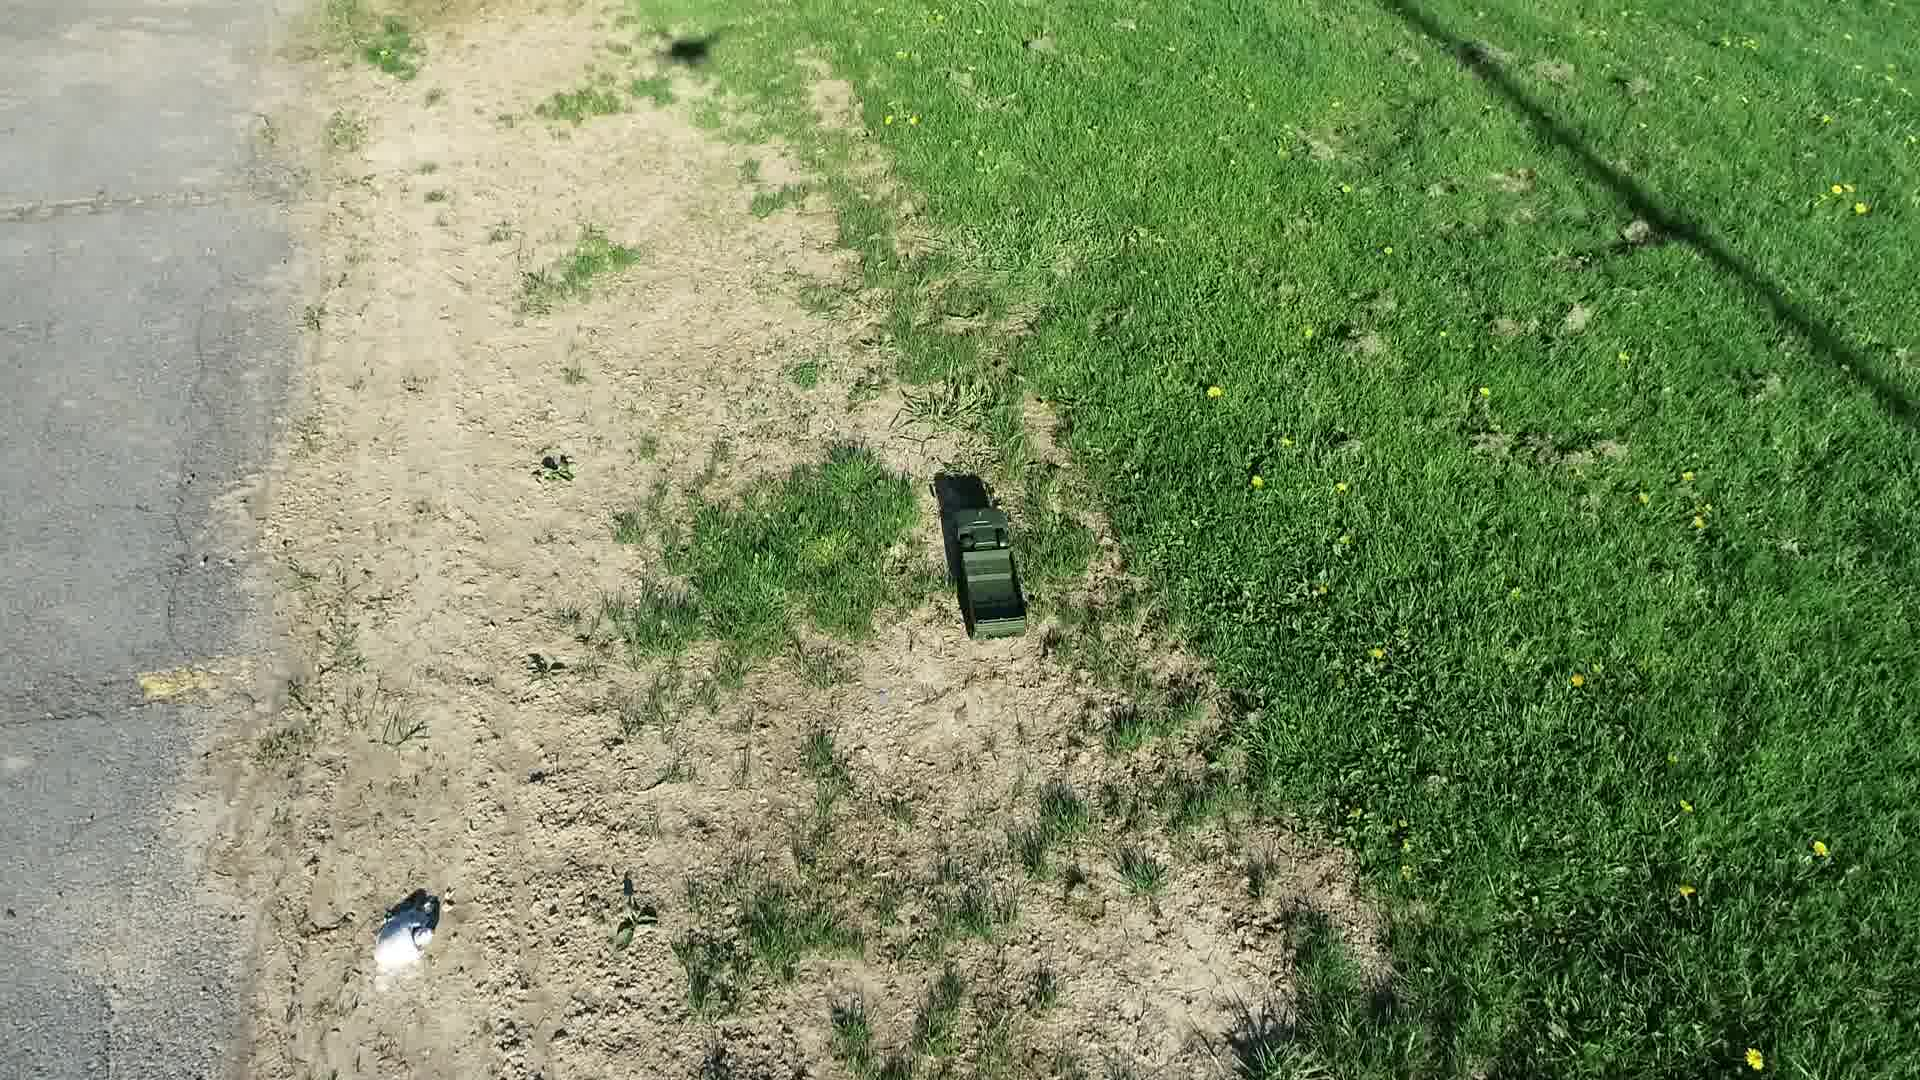transporter9: (936, 495, 1040, 647)
